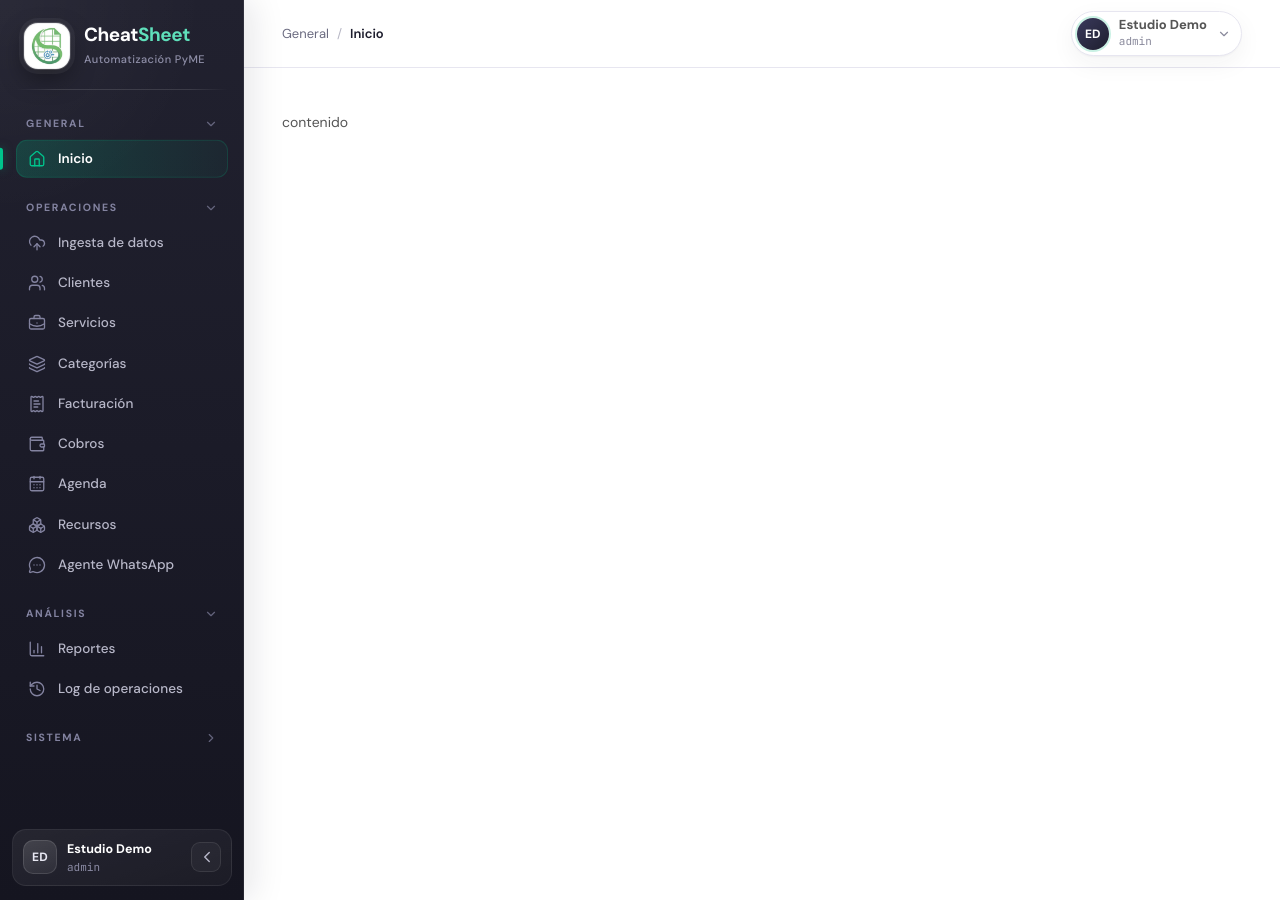
it: CarcasaDelPanel › el menú de cuenta abre y cierra con Escape devolviendo el foco
This screenshot has width=1280, height=900.
Click the button with aria-label "Cuenta de Estudio Demo" at [1156, 34], box [1071,12,1242,56]
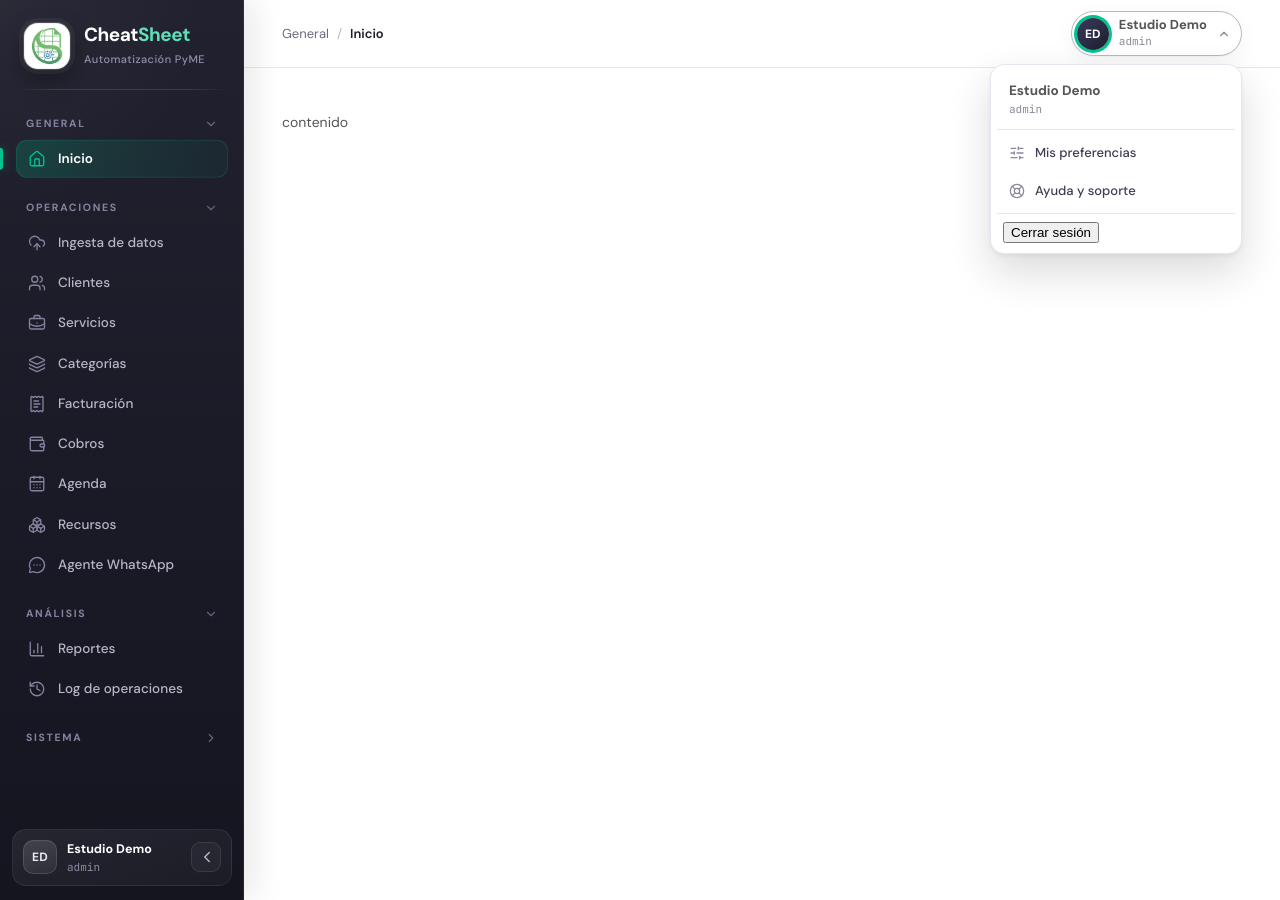
Expected: the button with aria-label "Cuenta de Estudio Demo" is expanded, [1071,12,1242,56]
Press Escape
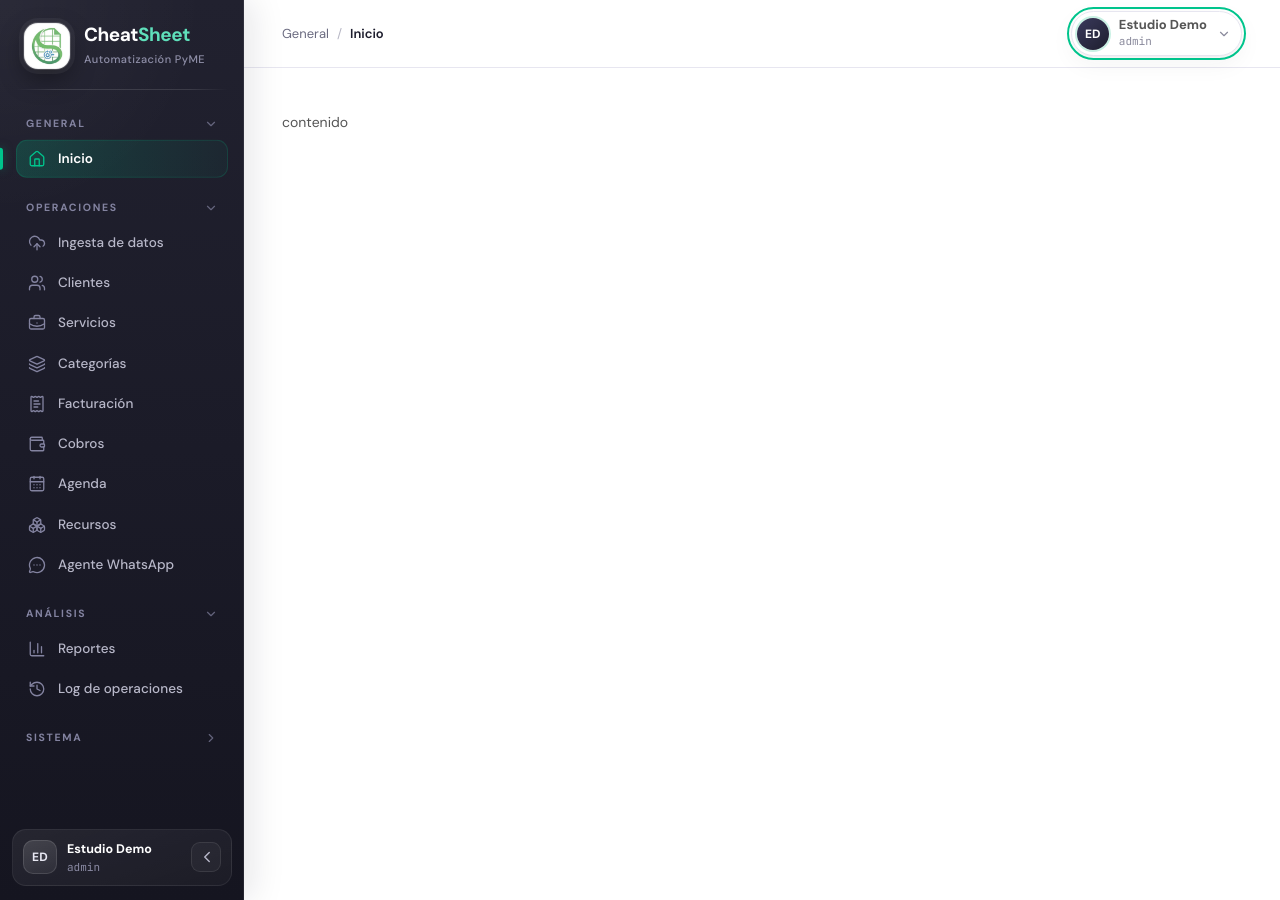
Expected: the button with aria-label "Cuenta de Estudio Demo" is collapsed, [1071,12,1242,56]
